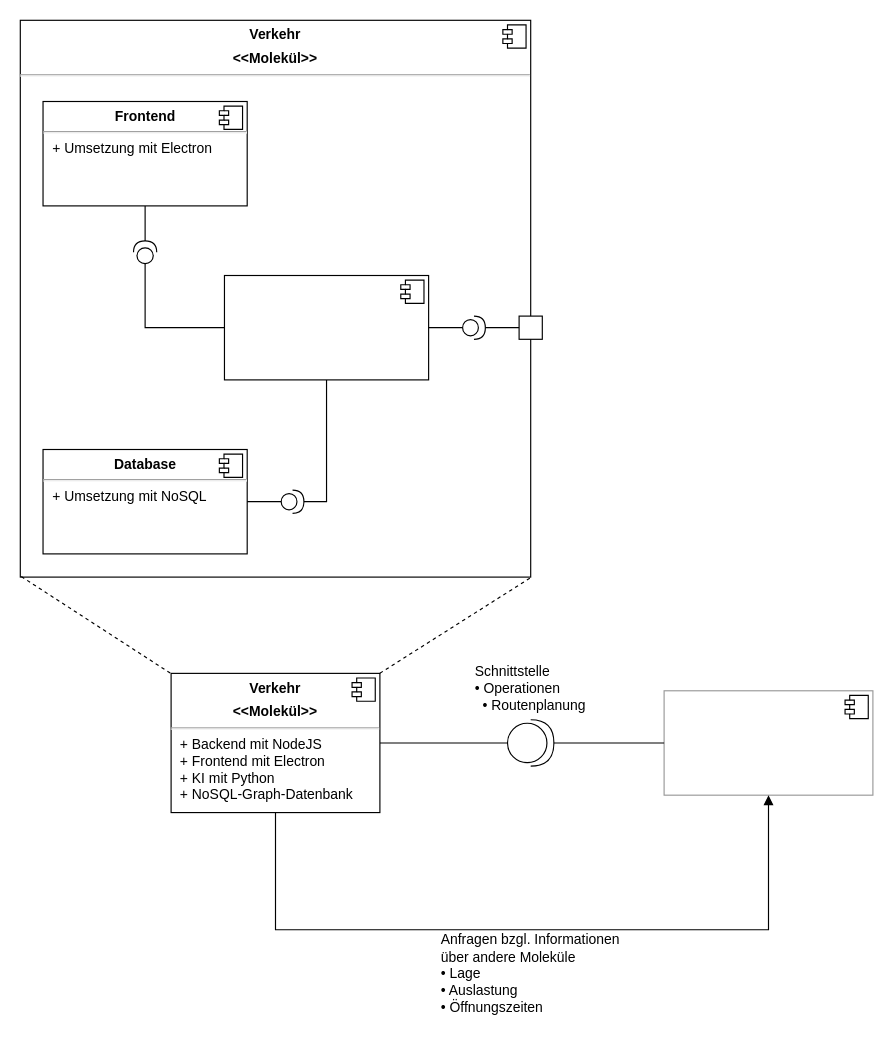
This 893x1052 diagram has some shape labels left out. The shapes that lost their labels are listed below. From the top down, each one's centre as x and y in pixels, then its label:
the point at 326,327: Backend + Umsetzung mit NodeJS
the point at 768,742: <<Organismus>>
